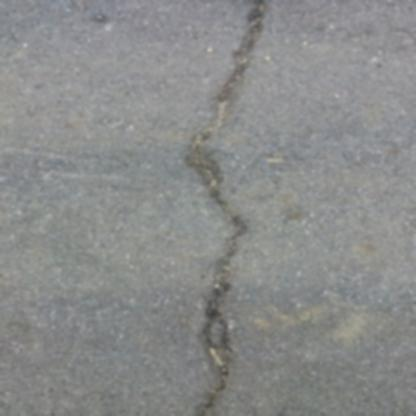Cracks: (160, 0, 278, 415)
